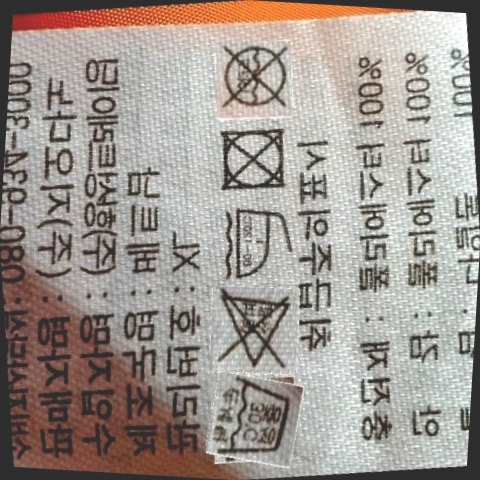DN_dry_clean: (214, 40, 295, 113)
DN_tumble_dry: (213, 122, 291, 195)
hand_wash: (205, 373, 297, 465)
iron_low: (217, 200, 292, 286)
non_chlorine_bleach: (209, 287, 289, 372)
